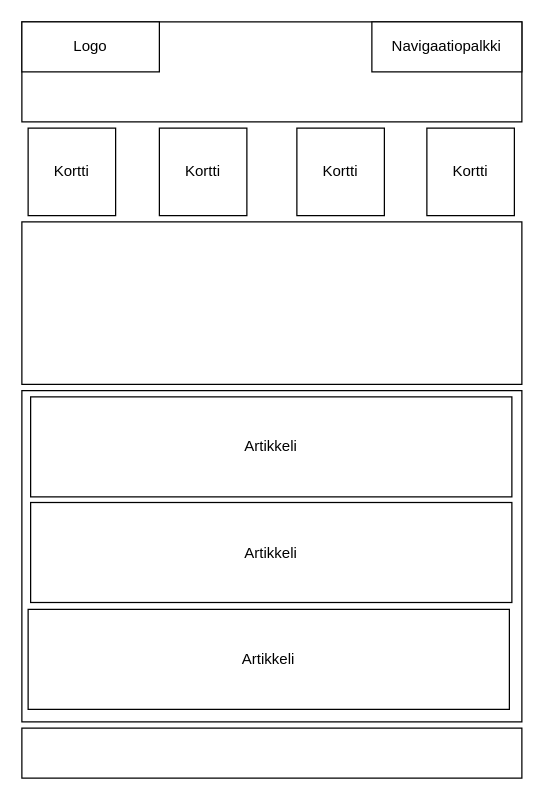
This 544x800 diagram has some shape labels left out. Here are the shapes that lost their labels. From the top down, the box of each, then its label:
(21, 21, 522, 122): Otsikkopalkki
(21, 221, 522, 384): Kuvagalleria
(21, 727, 522, 778): Alaotsikkopalkki
